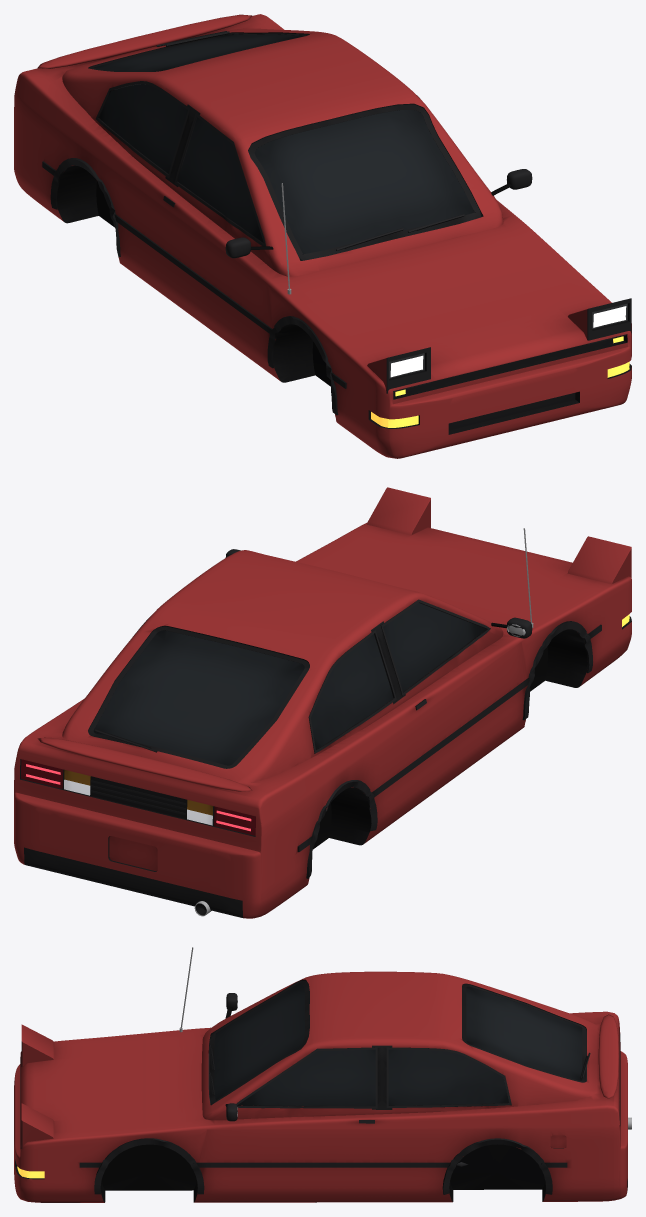
Rendered from touge.m.glb.
The picture shows the model from 3 angles, top to bottom: view 1: azimuth 30°, elevation 25°; view 2: azimuth 150°, elevation 25°; view 3: azimuth 270°, elevation 25°; orthographic projection. The views are drawn at different scales.
Visible parts, largest first — view 1: paint_lodm, window_lodm, trim_lodm, grille_lodm, lens_lodm, amber_lodm; view 2: paint_lodm, window_lodm, trim_lodm, tail_lodm; view 3: paint_lodm, window_lodm, trim_lodm.
Part boxes in pixels (x1,y1,x2,y2): paint_lodm: (14, 14, 631, 458); window_lodm: (94, 34, 482, 260); trim_lodm: (42, 31, 631, 434); grille_lodm: (393, 337, 616, 430); lens_lodm: (390, 306, 626, 377); amber_lodm: (371, 336, 629, 427); paint_lodm: (14, 487, 631, 918); window_lodm: (93, 603, 486, 765); trim_lodm: (20, 549, 631, 917); tail_lodm: (21, 759, 255, 835); paint_lodm: (14, 971, 627, 1202); window_lodm: (211, 984, 582, 1105); trim_lodm: (15, 979, 627, 1202).
Size of what is drawn, in the model's own units: 1.94 by 1.23 by 4.26.
